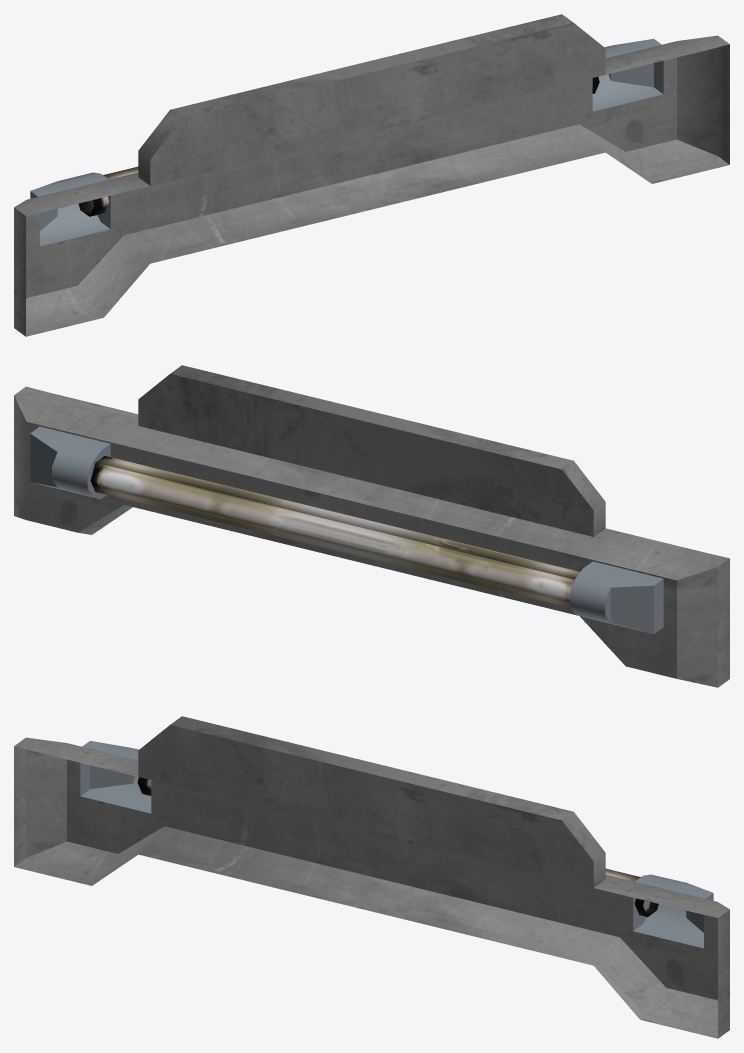
The model's file is LampWall.fbx.
3 renders of one model, top to bottom at view 1: azimuth 30°, elevation 25°; view 2: azimuth 150°, elevation 25°; view 3: azimuth 330°, elevation 25°, orthographic.
Parts seen in each view (by area): view 1: LampWall; view 2: LampWall; view 3: LampWall.
Part boxes in pixels (x1,y1,x2,y2): LampWall: (14, 14, 729, 336); LampWall: (14, 365, 729, 687); LampWall: (14, 716, 729, 1038).
Bounding box in the file's own units: 129 × 31.54 × 15.66.
